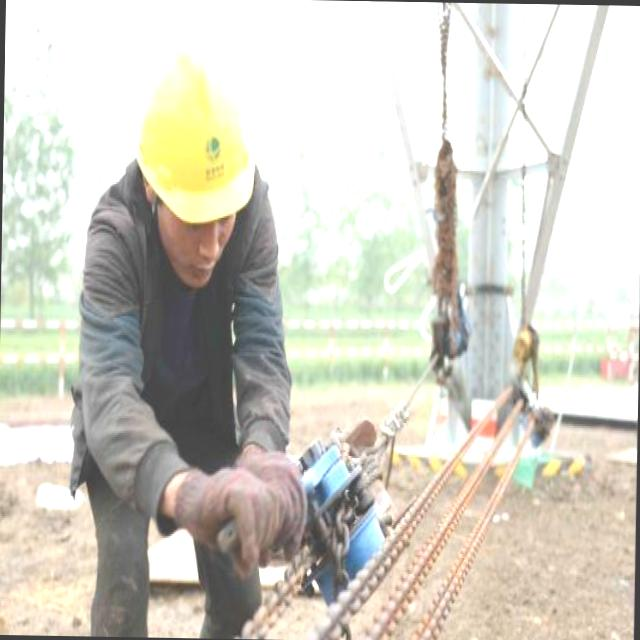helmet: (125, 35, 264, 232)
no-vest: (110, 243, 235, 452)
